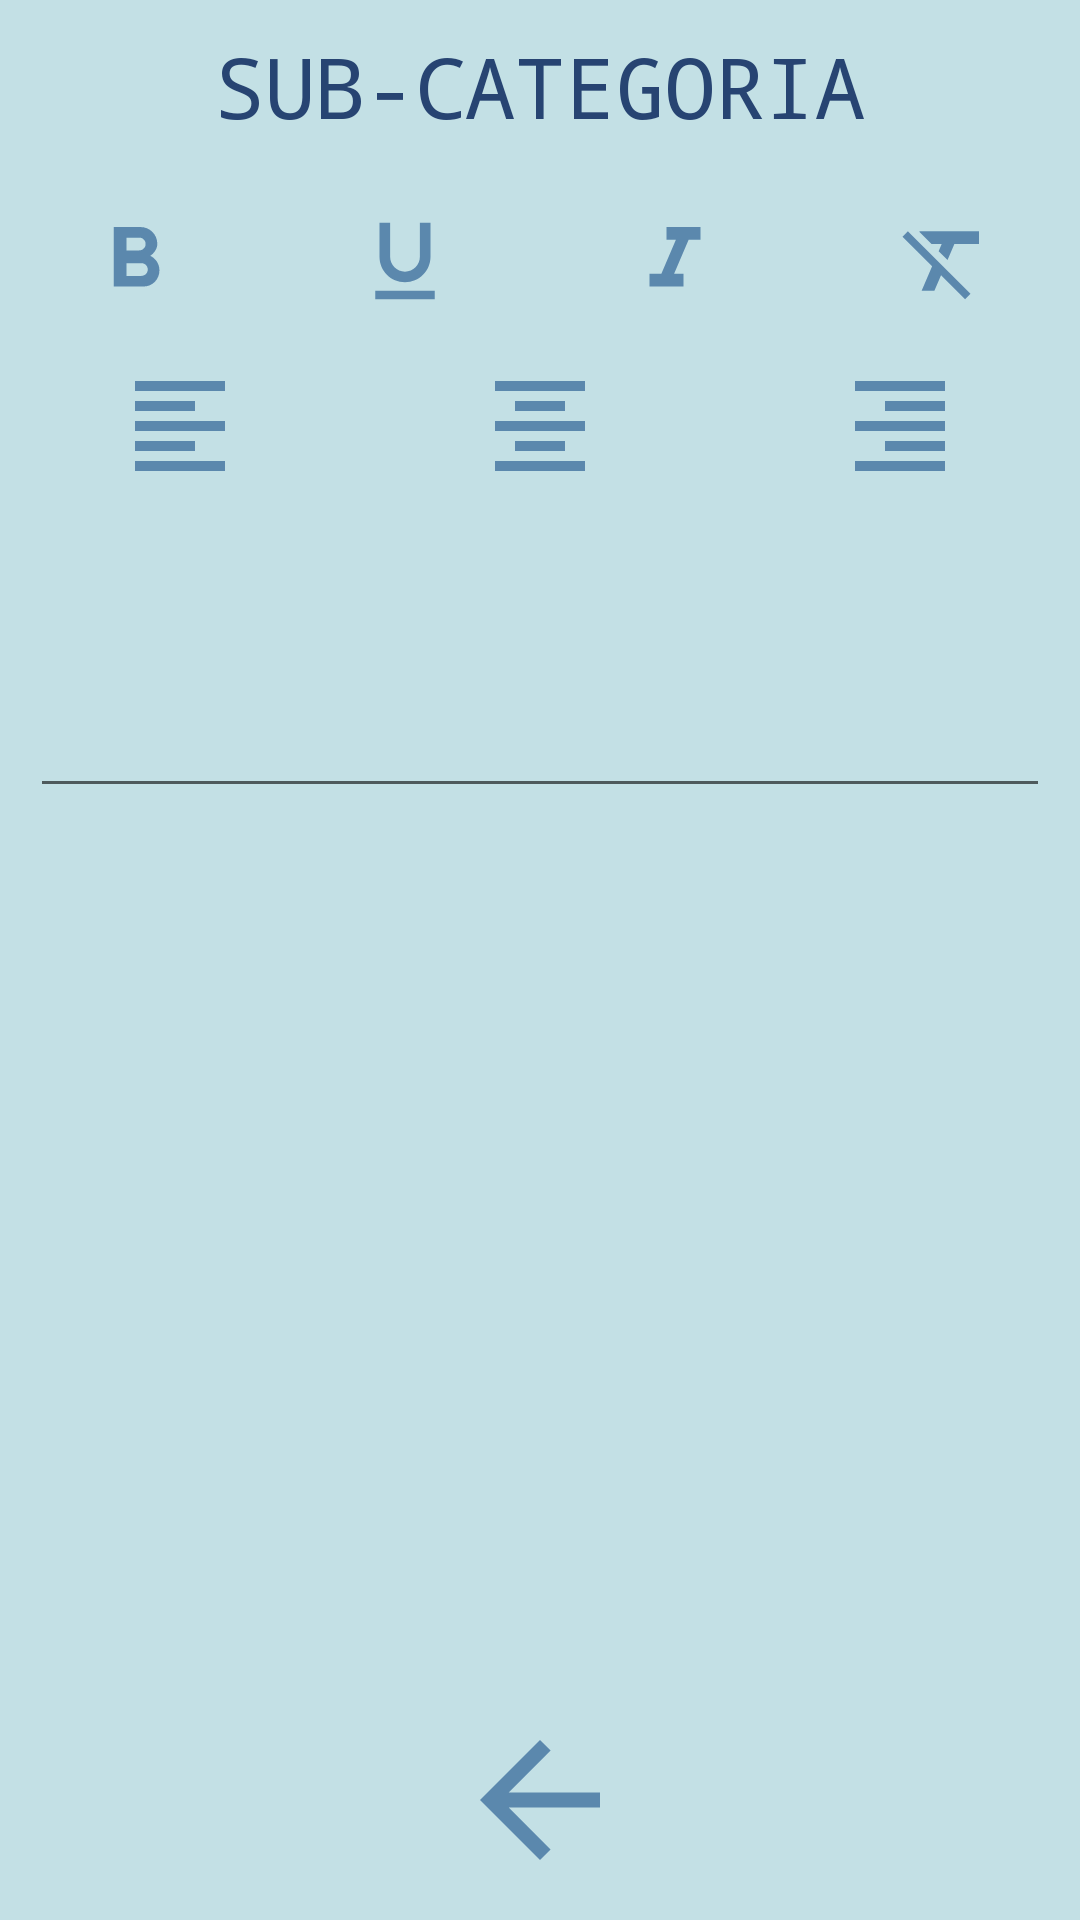

Icons on this 1080*1920 Android screen, each with the point to tap as point (x, y):
align center: point (540, 426)
align left: point (180, 426)
align right: point (900, 426)
arrow back: point (540, 1800)
clear: point (941, 265)
itallic: point (675, 257)
underline: point (405, 261)
